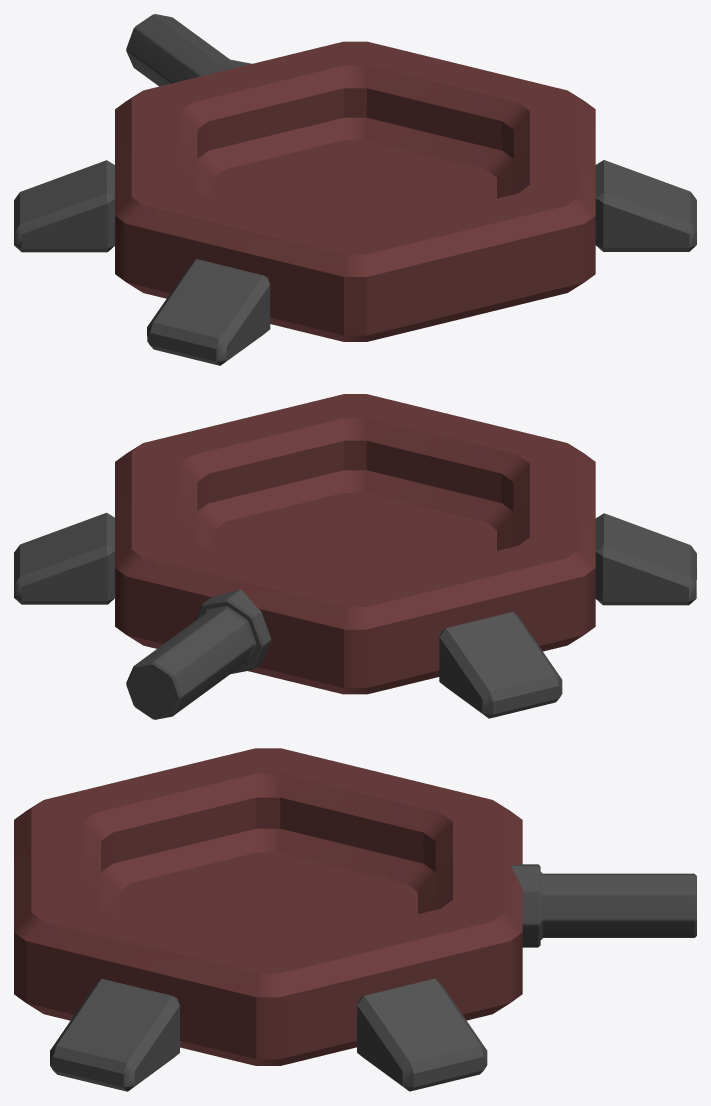
Rendered from FuelTankHolder.fbx.
3 renders of one model, top to bottom at view 1: azimuth 30°, elevation 25°; view 2: azimuth 150°, elevation 25°; view 3: azimuth 270°, elevation 25°, orthographic. The views are drawn at different scales.
Parts seen in each view (by area): view 1: pCube9; view 2: pCube9; view 3: pCube9.
Boxes of the visible parts, <box> form: pCube9: <box>14,14,696,365</box>; pCube9: <box>14,394,696,719</box>; pCube9: <box>14,748,696,1091</box>.
Bounding box in the file's own units: 227 × 34.98 × 233.
